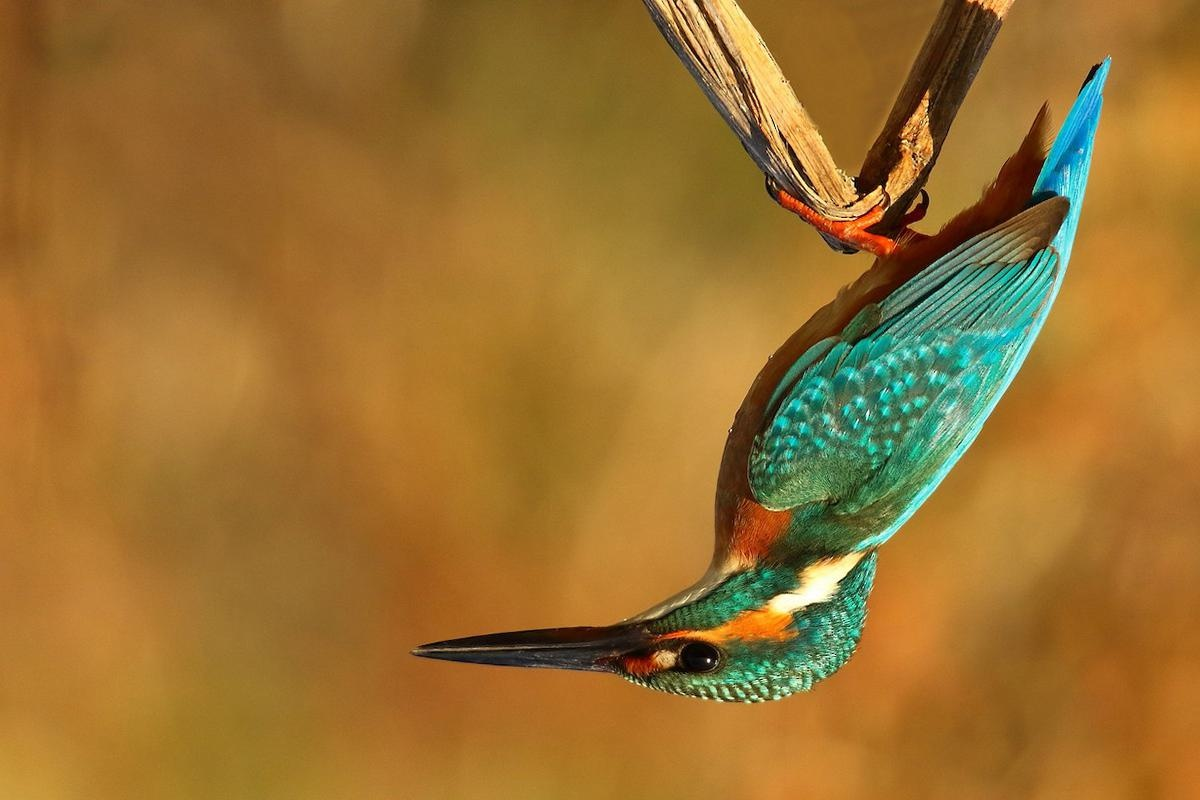kingfisher: (395, 47, 1128, 704)
